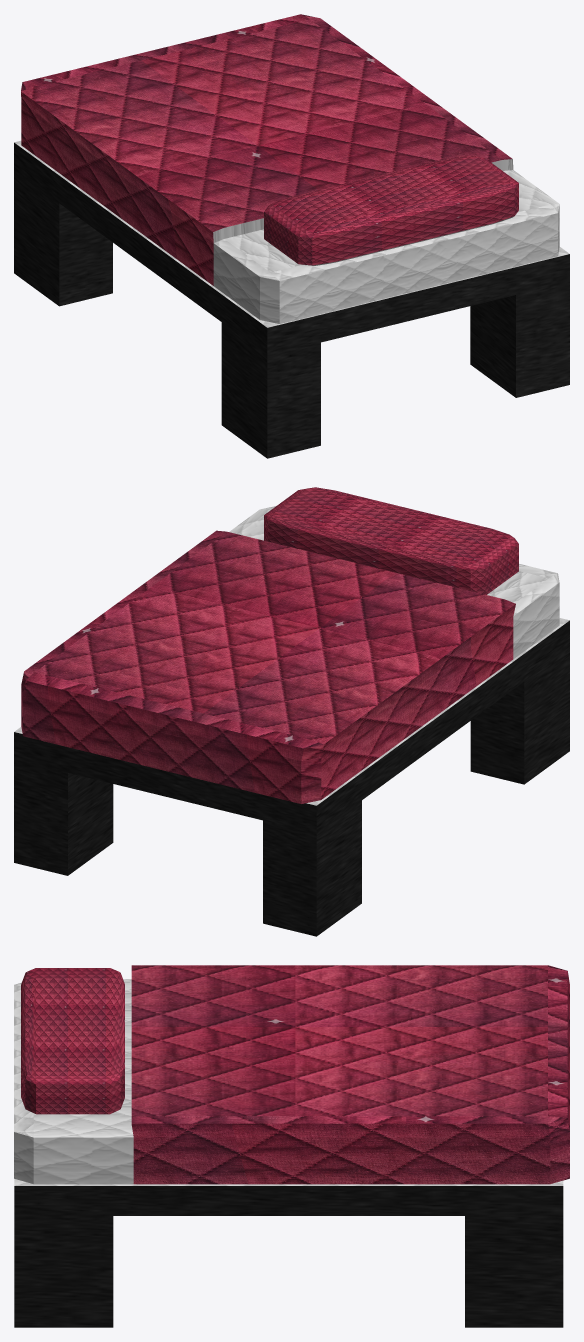
Rendered from cama_roja.fbx.
3 renders of one model, top to bottom at view 1: azimuth 30°, elevation 25°; view 2: azimuth 150°, elevation 25°; view 3: azimuth 270°, elevation 25°, orthographic. The views are drawn at different scales.
Parts seen in each view (by area): view 1: Cubo.001; view 2: Cubo.001; view 3: Cubo.001.
Boxes of the visible parts, x1,y1,x2,y2 form: Cubo.001: [14, 14, 569, 458]; Cubo.001: [14, 487, 569, 936]; Cubo.001: [14, 965, 569, 1327].
Size of the model in its own units: 514 by 341 by 755.
3 materials, 3 textured.
